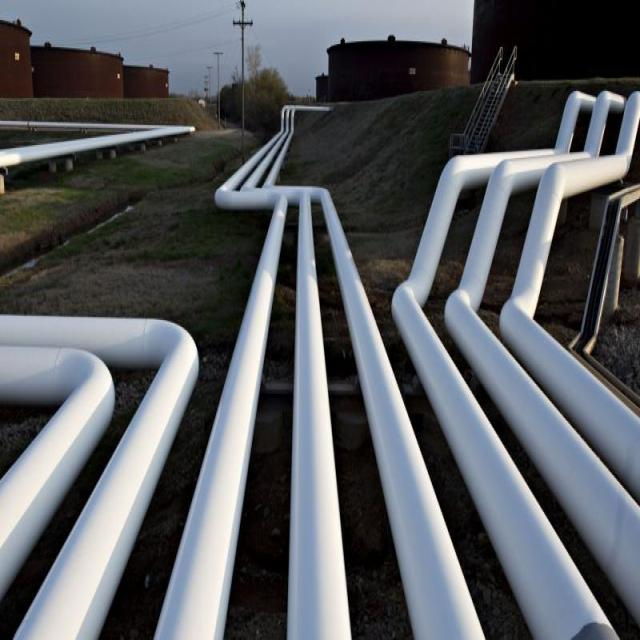gas: (393, 91, 620, 638), (445, 92, 640, 622), (311, 187, 486, 640), (157, 104, 290, 640), (2, 315, 199, 640), (500, 94, 640, 497), (286, 187, 350, 639), (0, 350, 115, 596), (1, 123, 196, 169), (243, 105, 289, 185), (267, 107, 297, 181)
